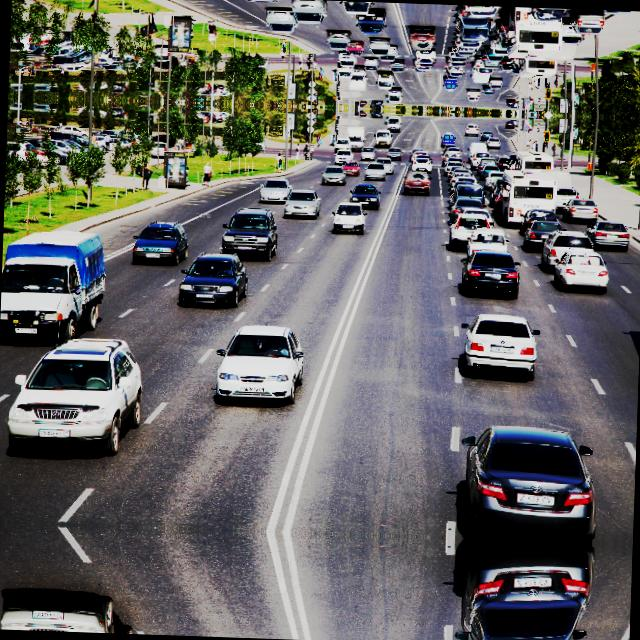citizen: (514, 487, 558, 512), (511, 568, 555, 593), (34, 426, 74, 440), (28, 606, 67, 620), (9, 322, 40, 335), (236, 384, 266, 395), (486, 342, 516, 353), (483, 268, 502, 280), (194, 289, 216, 299), (142, 250, 164, 260), (340, 221, 355, 229)
